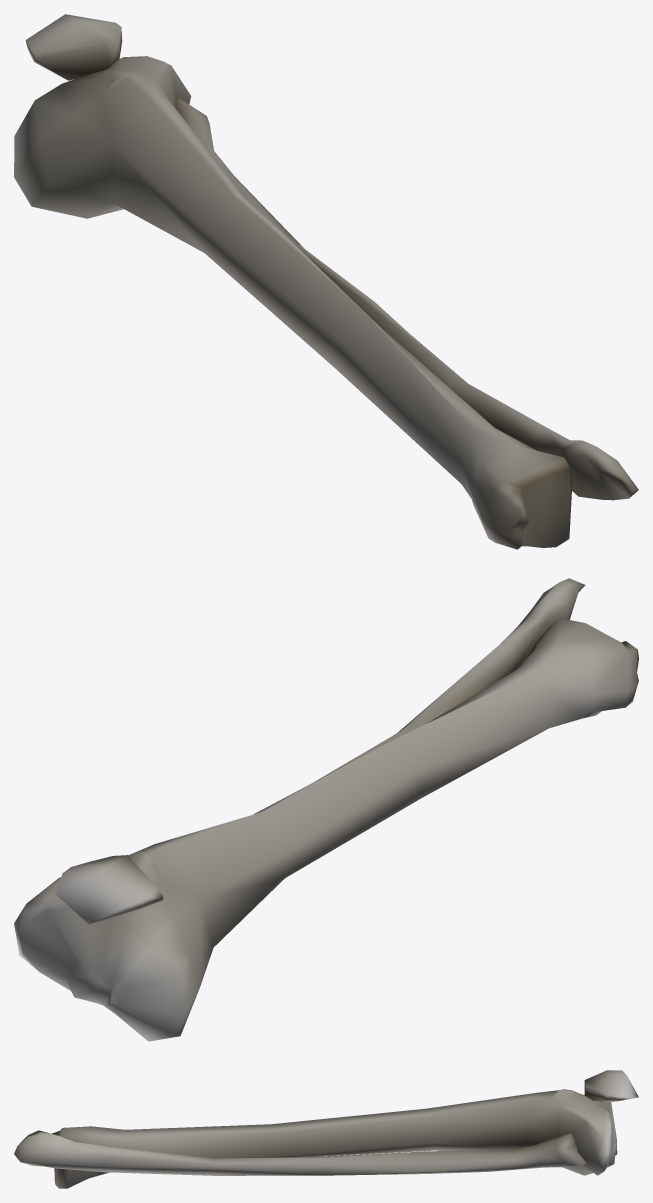
The picture shows the model from 3 angles, top to bottom: view 1: azimuth 30°, elevation 25°; view 2: azimuth 150°, elevation 25°; view 3: azimuth 270°, elevation 25°; orthographic projection. The views are drawn at different scales.
Visible parts, largest first — view 1: alt346; view 2: alt346; view 3: alt346.
Boxes of the visible parts, box(x1,y1,x2,y2) form: alt346: box(14, 14, 638, 549); alt346: box(14, 578, 638, 1041); alt346: box(14, 1070, 638, 1188).
Size of the model in its own units: 0.0929 by 0.0961 by 0.5.
